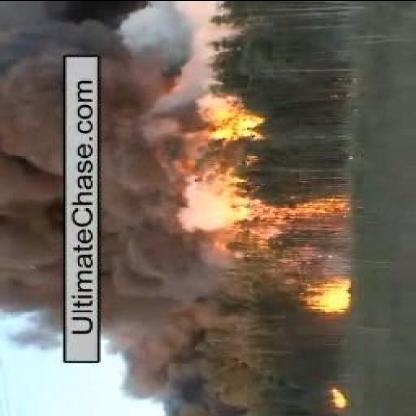-: (100, 35, 176, 365), (2, 66, 60, 322)
foggia-v2-map80-epoch100 - v1 4323: (306, 286, 352, 312), (332, 386, 348, 406)
